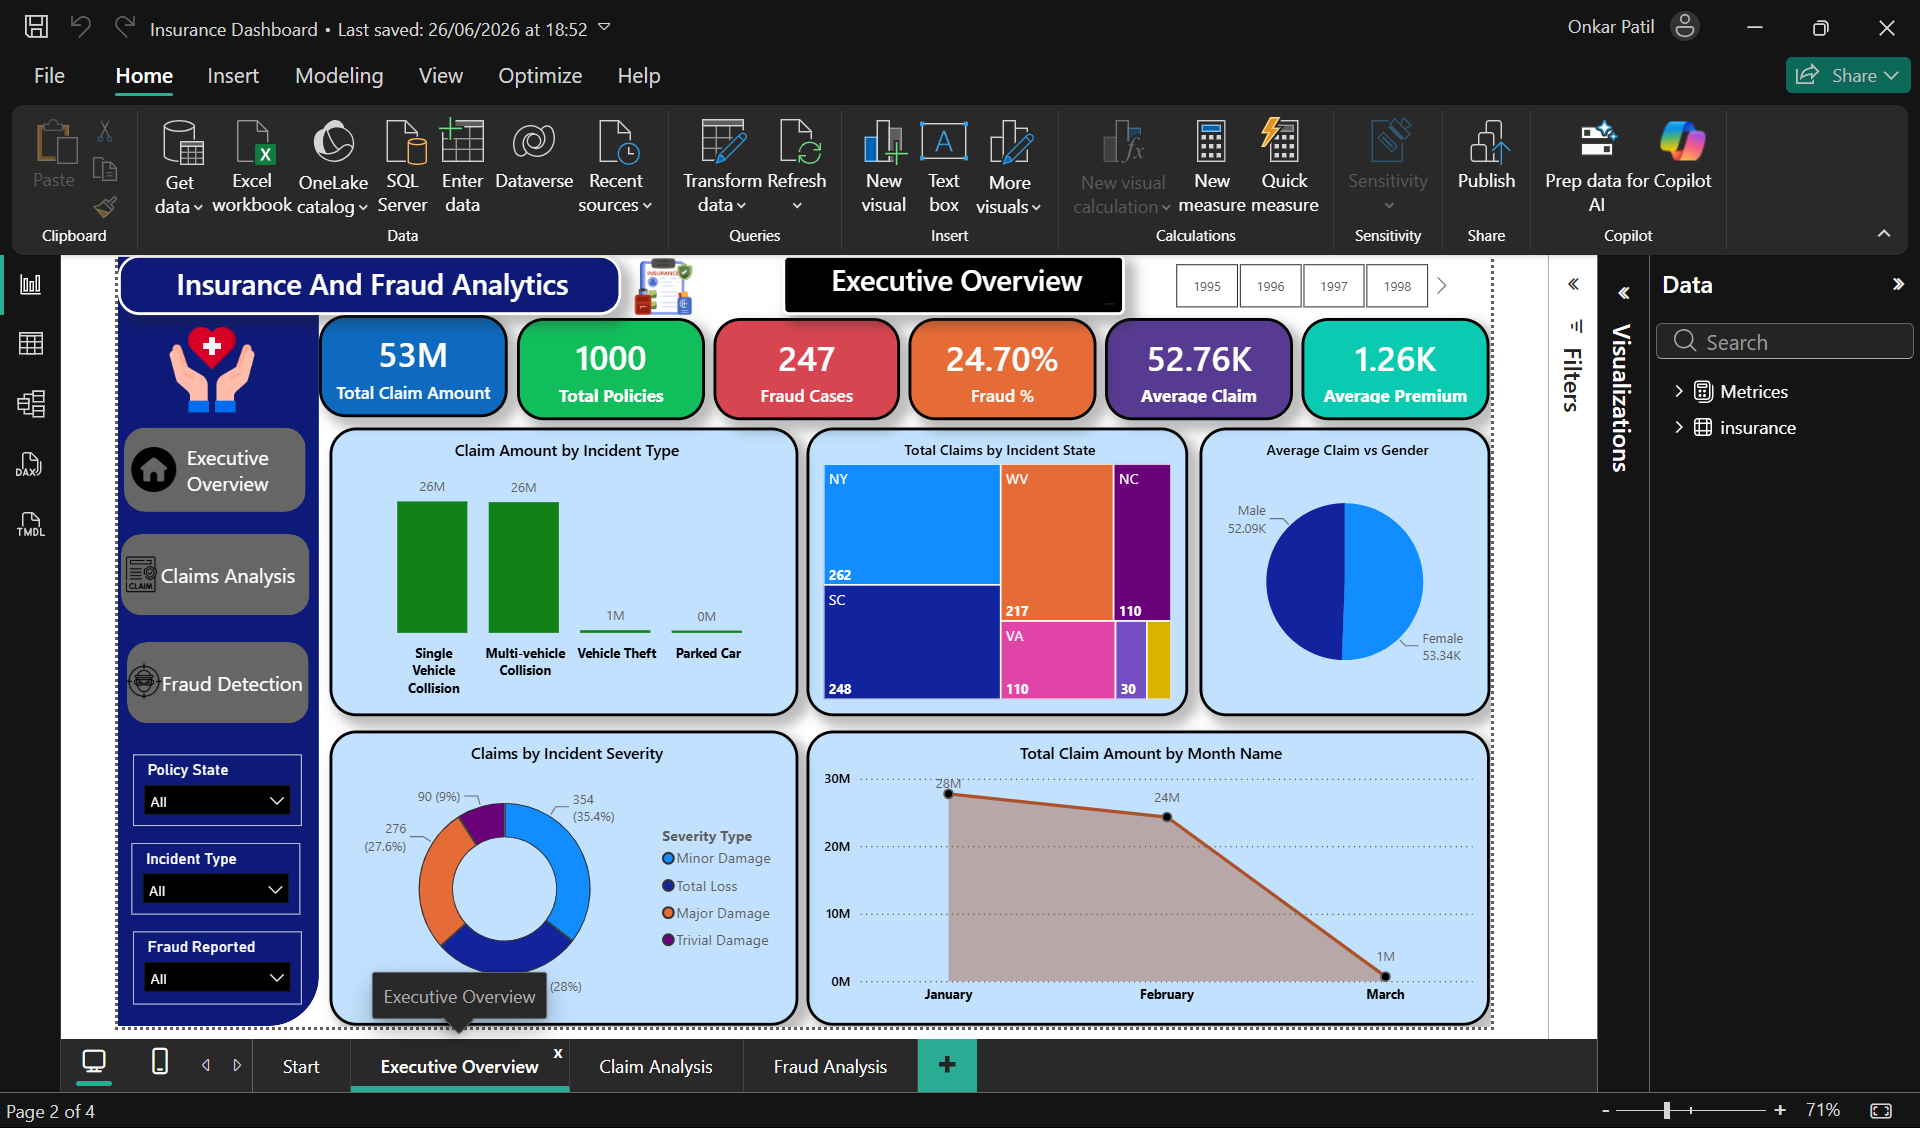

The page's visual inventory and layout, read from the dashboard file:
{"tool":"powerbi","page":{"name":"Executive Overview","canvas":[1280,720],"ordinal":1},"visuals":[{"type":"card","fields":{"Values":["Metrices.Total Claim Amount"]},"box":[187.5,56,176.3,95.1],"z":0},{"type":"card","fields":{"Values":["Metrices.Total Policies"]},"box":[371.6,59.1,175.6,95],"z":1000},{"type":"card","fields":{"Values":["Metrices.Average Claim"]},"box":[920.4,59.1,175.6,95.4],"z":2000},{"type":"card","fields":{"Values":["Metrices.Average Premium"]},"box":[1103.9,59.1,175.6,95.4],"z":3000},{"type":"clusteredColumnChart","title":"Claim Amount by Incident Type","fields":{"Category":["insurance.incident_type"],"Y":["Metrices.Total Claim Amount"]},"box":[196.8,160.5,437.6,269.5],"z":4000},{"type":"treemap","title":"Total Claims by Incident State","fields":{"Group":["insurance.incident_state"],"Values":["Metrices.Total Claims"]},"box":[642,160.5,355.8,269.5],"z":5000},{"type":"donutChart","title":"Claims by Incident Severity","fields":{"Y":["Metrices.Total Claims"],"Category":["insurance.incident_severity"]},"box":[196.8,443.7,437.6,275.6],"z":6000},{"type":"pieChart","title":"Average Claim vs Gender","fields":{"Y":["Metrices.Average Claim"],"Category":["insurance.insured_sex"]},"box":[1008.5,160.5,271,269.5],"z":7000},{"type":"lineChart","fields":{"Y":["Metrices.Total Claim Amount"],"Category":["insurance.Month Name"]},"box":[642,443.7,637.5,275.6],"z":8000},{"type":"shape","box":[0,1.4,187.5,717.7],"z":9000},{"type":"shape","box":[6.1,160.5,169.6,78.7],"z":10000},{"type":"shape","box":[2.9,260.7,175.7,75.7],"z":11000},{"type":"shape","box":[9.1,360.4,169.6,75.7],"z":12000},{"type":"slicer","fields":{"Values":["insurance.auto_year"]},"box":[961.5,1.5,284.7,54.5],"z":13000},{"type":"slicer","fields":{"Values":["insurance.policy_state"]},"box":[13.6,466.4,157.5,66.6],"z":14000},{"type":"slicer","fields":{"Values":["insurance.incident_type"]},"box":[12.1,548.9,157.5,66.6],"z":15000},{"type":"slicer","fields":{"Values":["insurance.fraud_reported"]},"box":[13.6,631.4,157.5,68.1],"z":16000},{"type":"textbox","title":"Insurance And Fraud Analytics","box":[0,0,469.4,56],"z":17000},{"type":"card","fields":{"Values":["Metrices.Fraud Cases"]},"box":[555,59.1,174.1,95.4],"z":18000},{"type":"card","fields":{"Values":["Metrices.Fraud %"]},"box":[737,59.1,175.6,95.4],"z":19000},{"type":"textbox","title":"Executive Overview","box":[619.3,0,319.5,56],"z":20000},{"type":"image","box":[8.9,178.6,50.4,41.8],"z":21000},{"type":"image","box":[2.9,281.8,37.9,33.6],"z":22000},{"type":"image","box":[6.1,371.4,37.5,53.6],"z":23000},{"type":"image","box":[9.1,63.6,159,87.8],"z":24000},{"type":"image","box":[469.4,1.5,77.2,56],"z":25000}]}

Visuals, with their boxes on the page's 1280x720 design canvas (x1, y1, x2, y2). These are canvas units, not pixel positions in the 1920x1128 screenshot, which may show the page scaled, cropped or inside an application window:
card - Metrices.Total Claim Amount: 188/56/364/151
card - Metrices.Total Policies: 372/59/547/154
card - Metrices.Average Claim: 920/59/1096/154
card - Metrices.Average Premium: 1104/59/1280/154
"Claim Amount by Incident Type" clusteredColumnChart: 197/160/634/430
"Total Claims by Incident State" treemap: 642/160/998/430
"Claims by Incident Severity" donutChart: 197/444/634/719
"Average Claim vs Gender" pieChart: 1008/160/1280/430
lineChart - Metrices.Total Claim Amount x insurance.Month Name: 642/444/1280/719
shape: 0/1/188/719
shape: 6/160/176/239
shape: 3/261/179/336
shape: 9/360/179/436
slicer - insurance.auto_year: 962/2/1246/56
slicer - insurance.policy_state: 14/466/171/533
slicer - insurance.incident_type: 12/549/170/616
slicer - insurance.fraud_reported: 14/631/171/700
"Insurance And Fraud Analytics" textbox: 0/0/469/56
card - Metrices.Fraud Cases: 555/59/729/154
card - Metrices.Fraud %: 737/59/913/154
"Executive Overview" textbox: 619/0/939/56
image: 9/179/59/220
image: 3/282/41/315
image: 6/371/44/425
image: 9/64/168/151
image: 469/2/547/58
